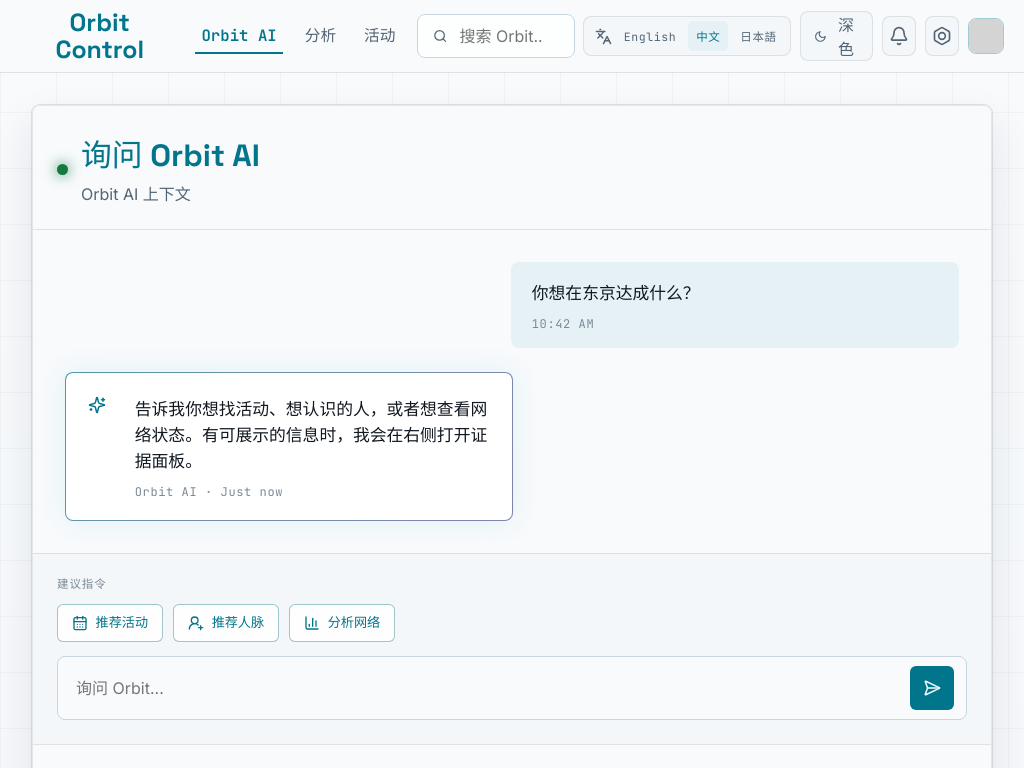
Test case: Orbit UI framework › localizes the AI analytics result panel to Chinese
The image size is (1024, 768).
Click the button "分析网络" at (342, 623), box [289,604,395,642]
(page scrolled)
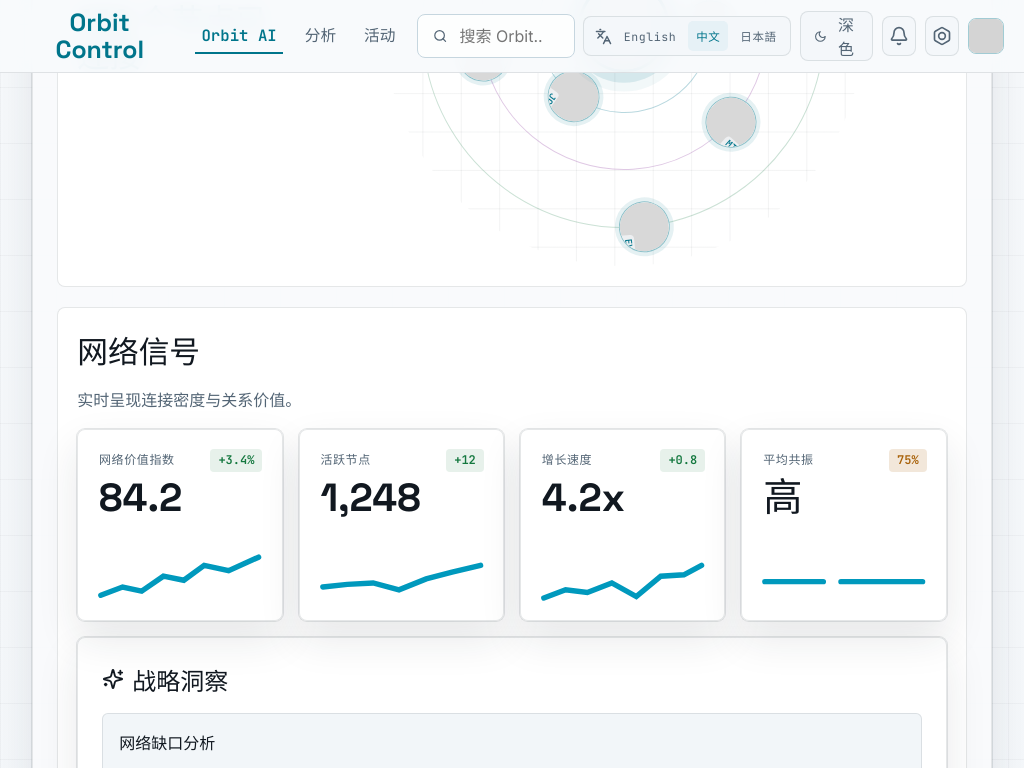
Check: the heading "网络信号" is shown, box [77,333,200,372]
Check: the heading "战略洞察" is shown, box [102,666,228,696]
Check: the element named "AI 结果面板" shows "网络缺口分析", box [119,732,215,752]
